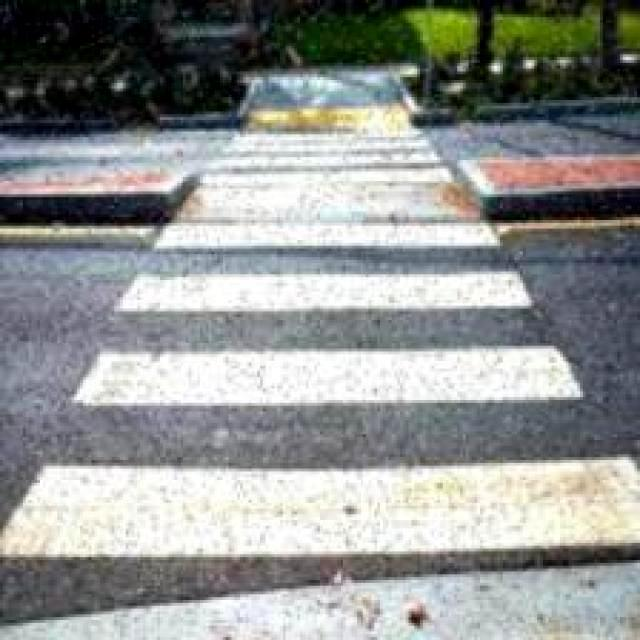crosswalk: (0, 106, 632, 590)
